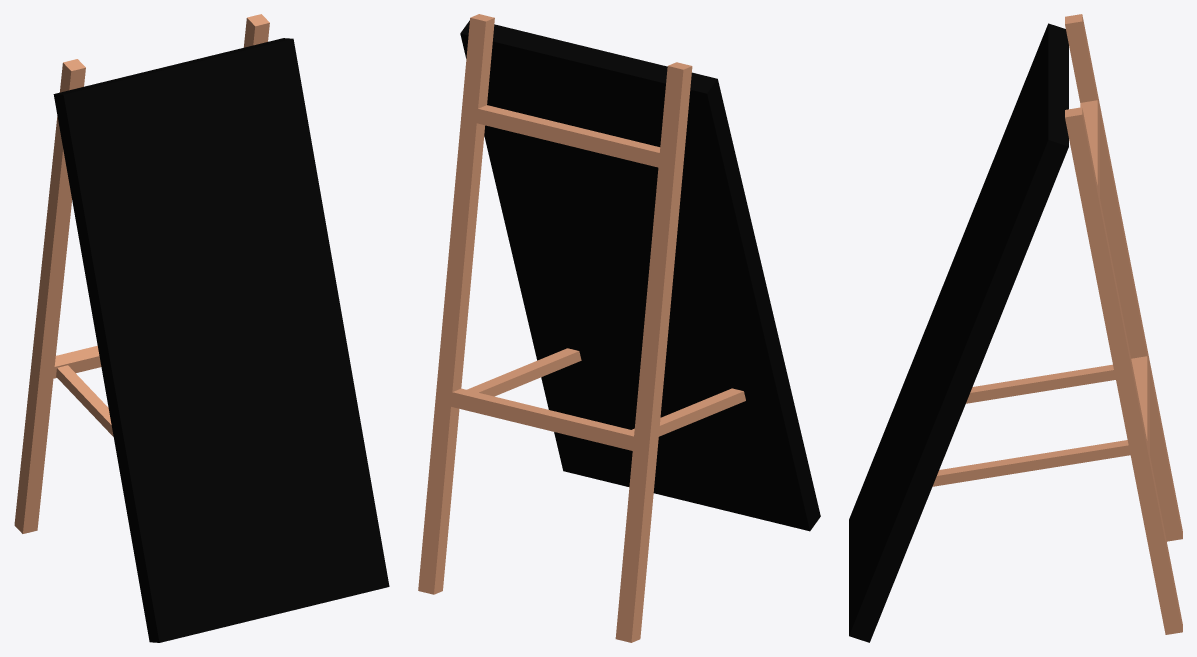
File: Cartel03.fbx
The picture shows the model from 3 angles, left to right: view 1: azimuth 30°, elevation 25°; view 2: azimuth 150°, elevation 25°; view 3: azimuth 270°, elevation 25°; orthographic projection. The views are drawn at different scales.
Visible parts, largest first — view 1: Cartel02; view 2: Cartel02; view 3: Cartel02.
Boxes of the visible parts, x1,y1,x2,y2 form: Cartel02: (14, 14, 389, 642); Cartel02: (418, 14, 820, 642); Cartel02: (849, 14, 1182, 642).
Size of the model in its own units: 75 by 156 by 90.84.
